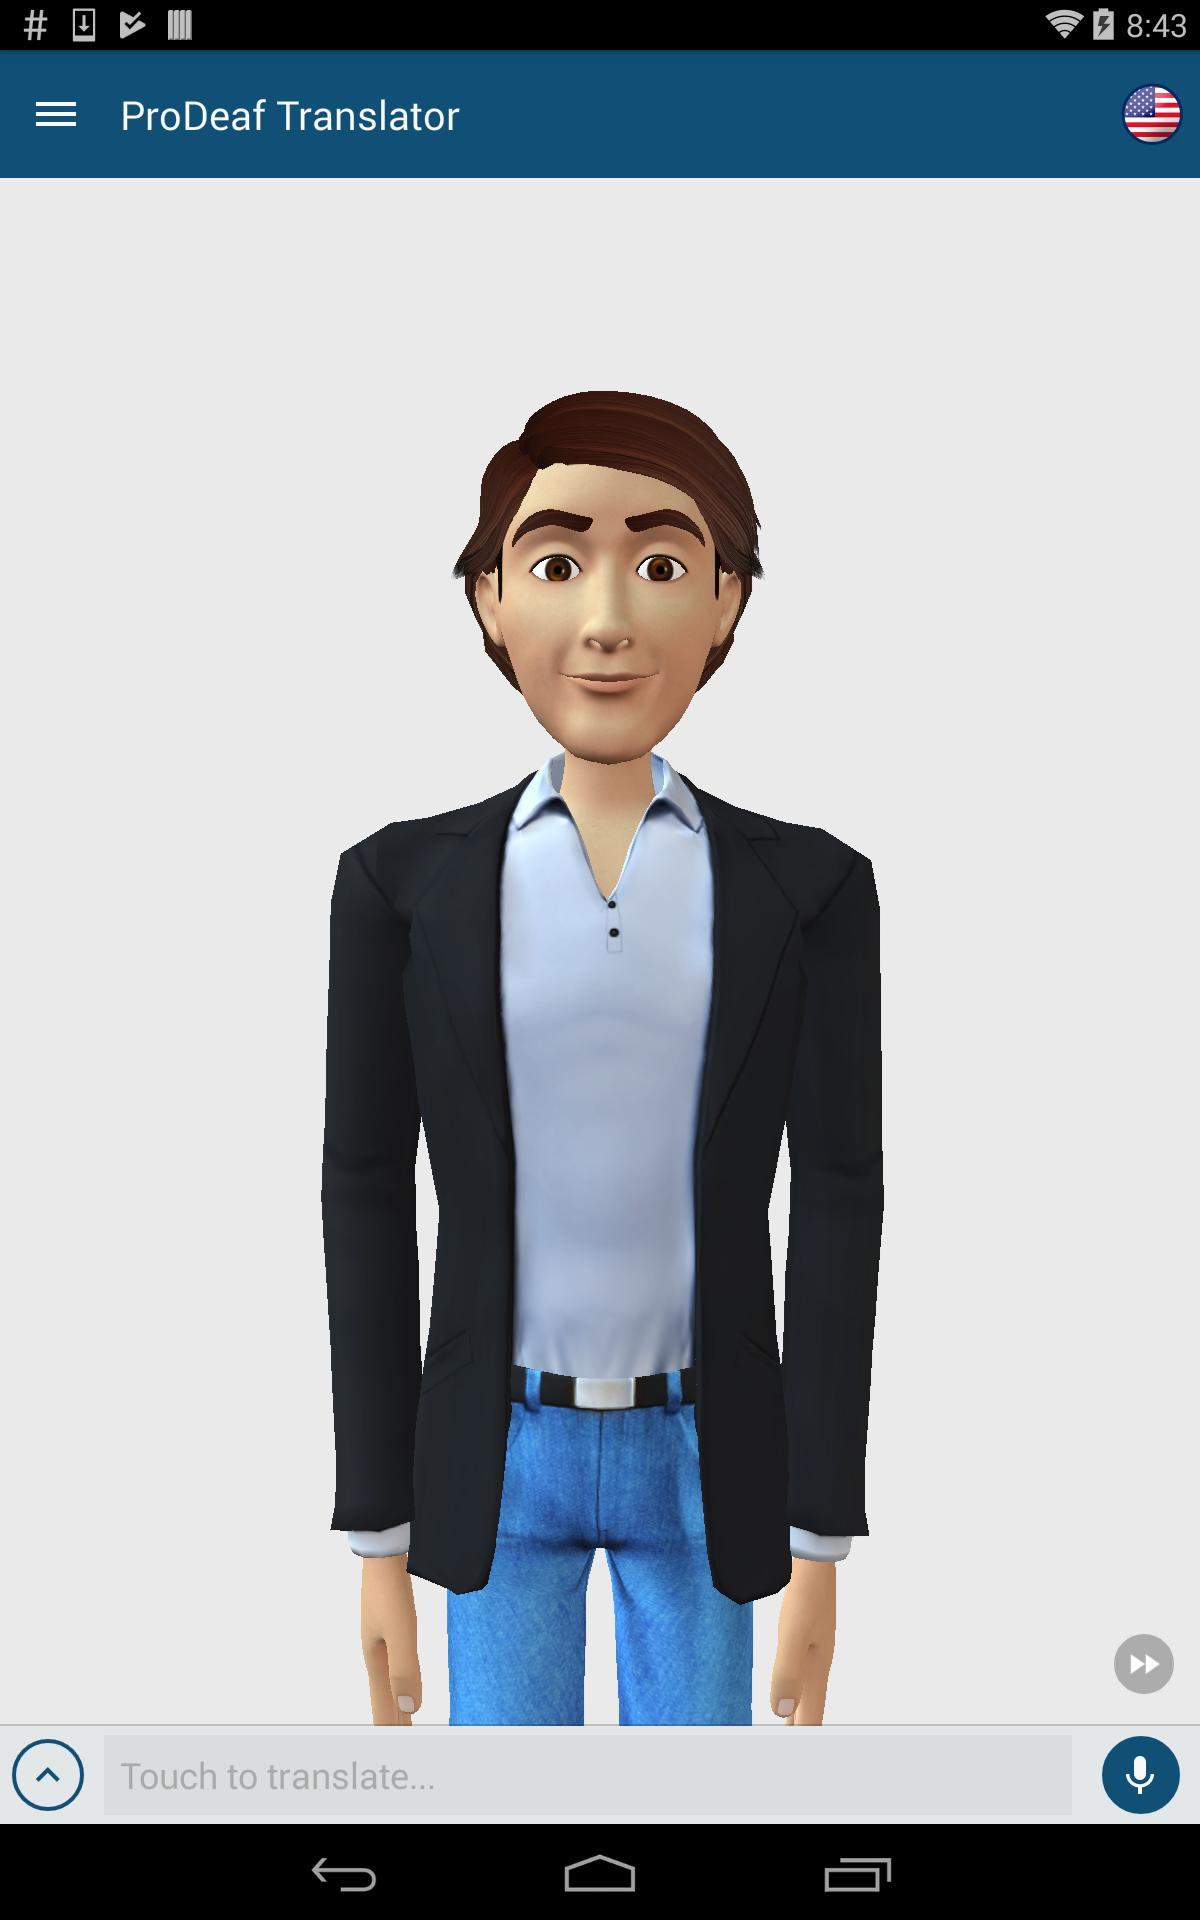android.support.v4.widget.DrawerLayout: (0, 50, 1200, 1825)
android.support.v7.widget.LinearLayoutCompat: (1105, 58, 1200, 170)
android.view.View: (0, 178, 1200, 1883), (0, 178, 1200, 1825), (0, 178, 1200, 1724), (0, 50, 1200, 178), (0, 1724, 1200, 1726)
android.widget.EditText: (104, 1735, 1071, 1815)
android.widget.FrameLayout: (0, 0, 1200, 1825), (0, 50, 1200, 1825), (0, 178, 1200, 1883), (0, 178, 1200, 1825), (1102, 1736, 1181, 1814)
android.widget.ImageButton: (0, 58, 112, 170)
android.widget.ImageView: (8, 1735, 88, 1815), (1114, 1634, 1174, 1695), (1116, 1750, 1164, 1798)
android.widget.LinearLayout: (0, 0, 1200, 1825), (0, 50, 1200, 1825), (0, 1724, 1200, 1825), (0, 1726, 1200, 1825)
android.widget.TextView: (0, 207, 1200, 267), (120, 87, 460, 141), (1105, 66, 1200, 162)
